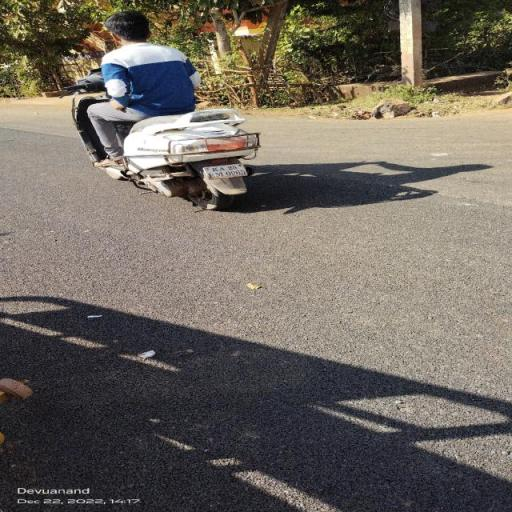bike: (52, 6, 268, 215)
numberplate: (200, 155, 252, 183)
withouthelmet: (110, 11, 154, 42)
